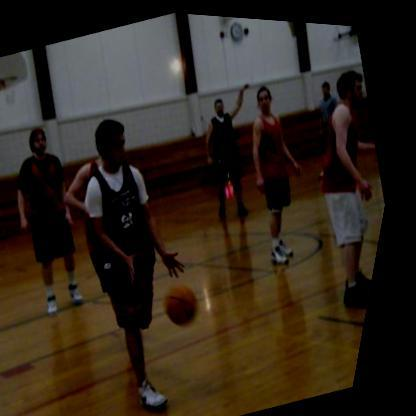basketball: (168, 278, 215, 327)
